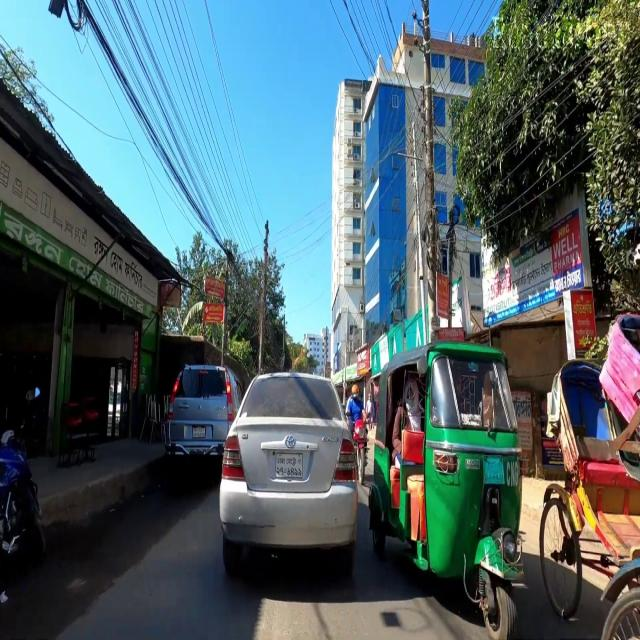silver: (163, 356, 238, 469)
white: (215, 369, 366, 580)
